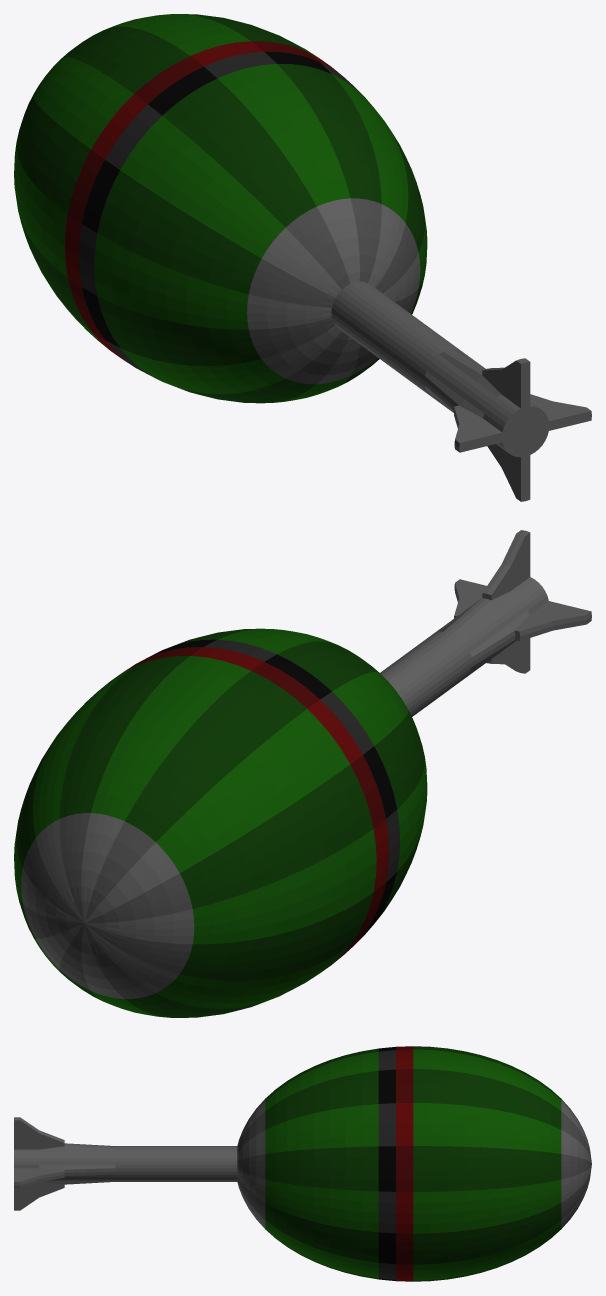
The model's file is Mortarmellon.glb.
3 renders of one model, top to bottom at view 1: azimuth 30°, elevation 25°; view 2: azimuth 150°, elevation 25°; view 3: azimuth 270°, elevation 25°, orthographic. The views are drawn at different scales.
Visible parts, largest first — view 1: Mortarmelon Body, Cylinder; view 2: Mortarmelon Body, Cylinder; view 3: Mortarmelon Body, Cylinder.
Boxes of the visible parts, left/top/right/bottom form: Mortarmelon Body: left=14, top=14, right=427, bottom=403; Cylinder: left=331, top=281, right=591, bottom=501; Mortarmelon Body: left=14, top=628, right=427, bottom=1017; Cylinder: left=380, top=530, right=591, bottom=716; Mortarmelon Body: left=237, top=1046, right=591, bottom=1281; Cylinder: left=14, top=1117, right=237, bottom=1210.
Size of the model in its own units: 1.97 by 1.97 by 4.84.
